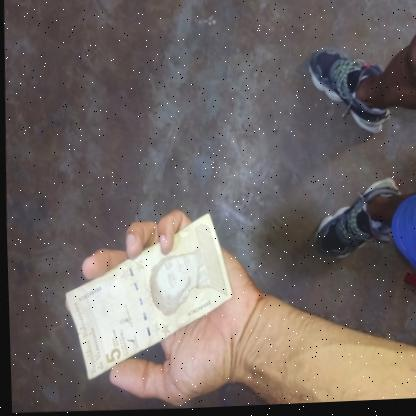five-front-vef: (60, 211, 234, 384)
